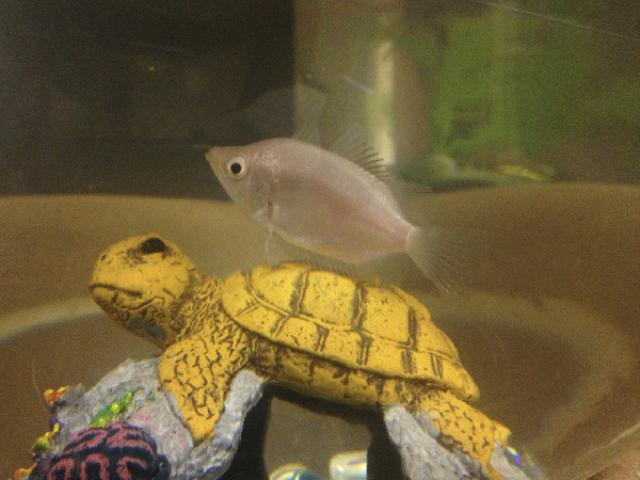Mulut: (187, 130, 230, 176)
Sirip Anal: (282, 230, 404, 289)
Sirip Ekor: (396, 218, 504, 308)
Sirip Punggung: (284, 106, 434, 228)
